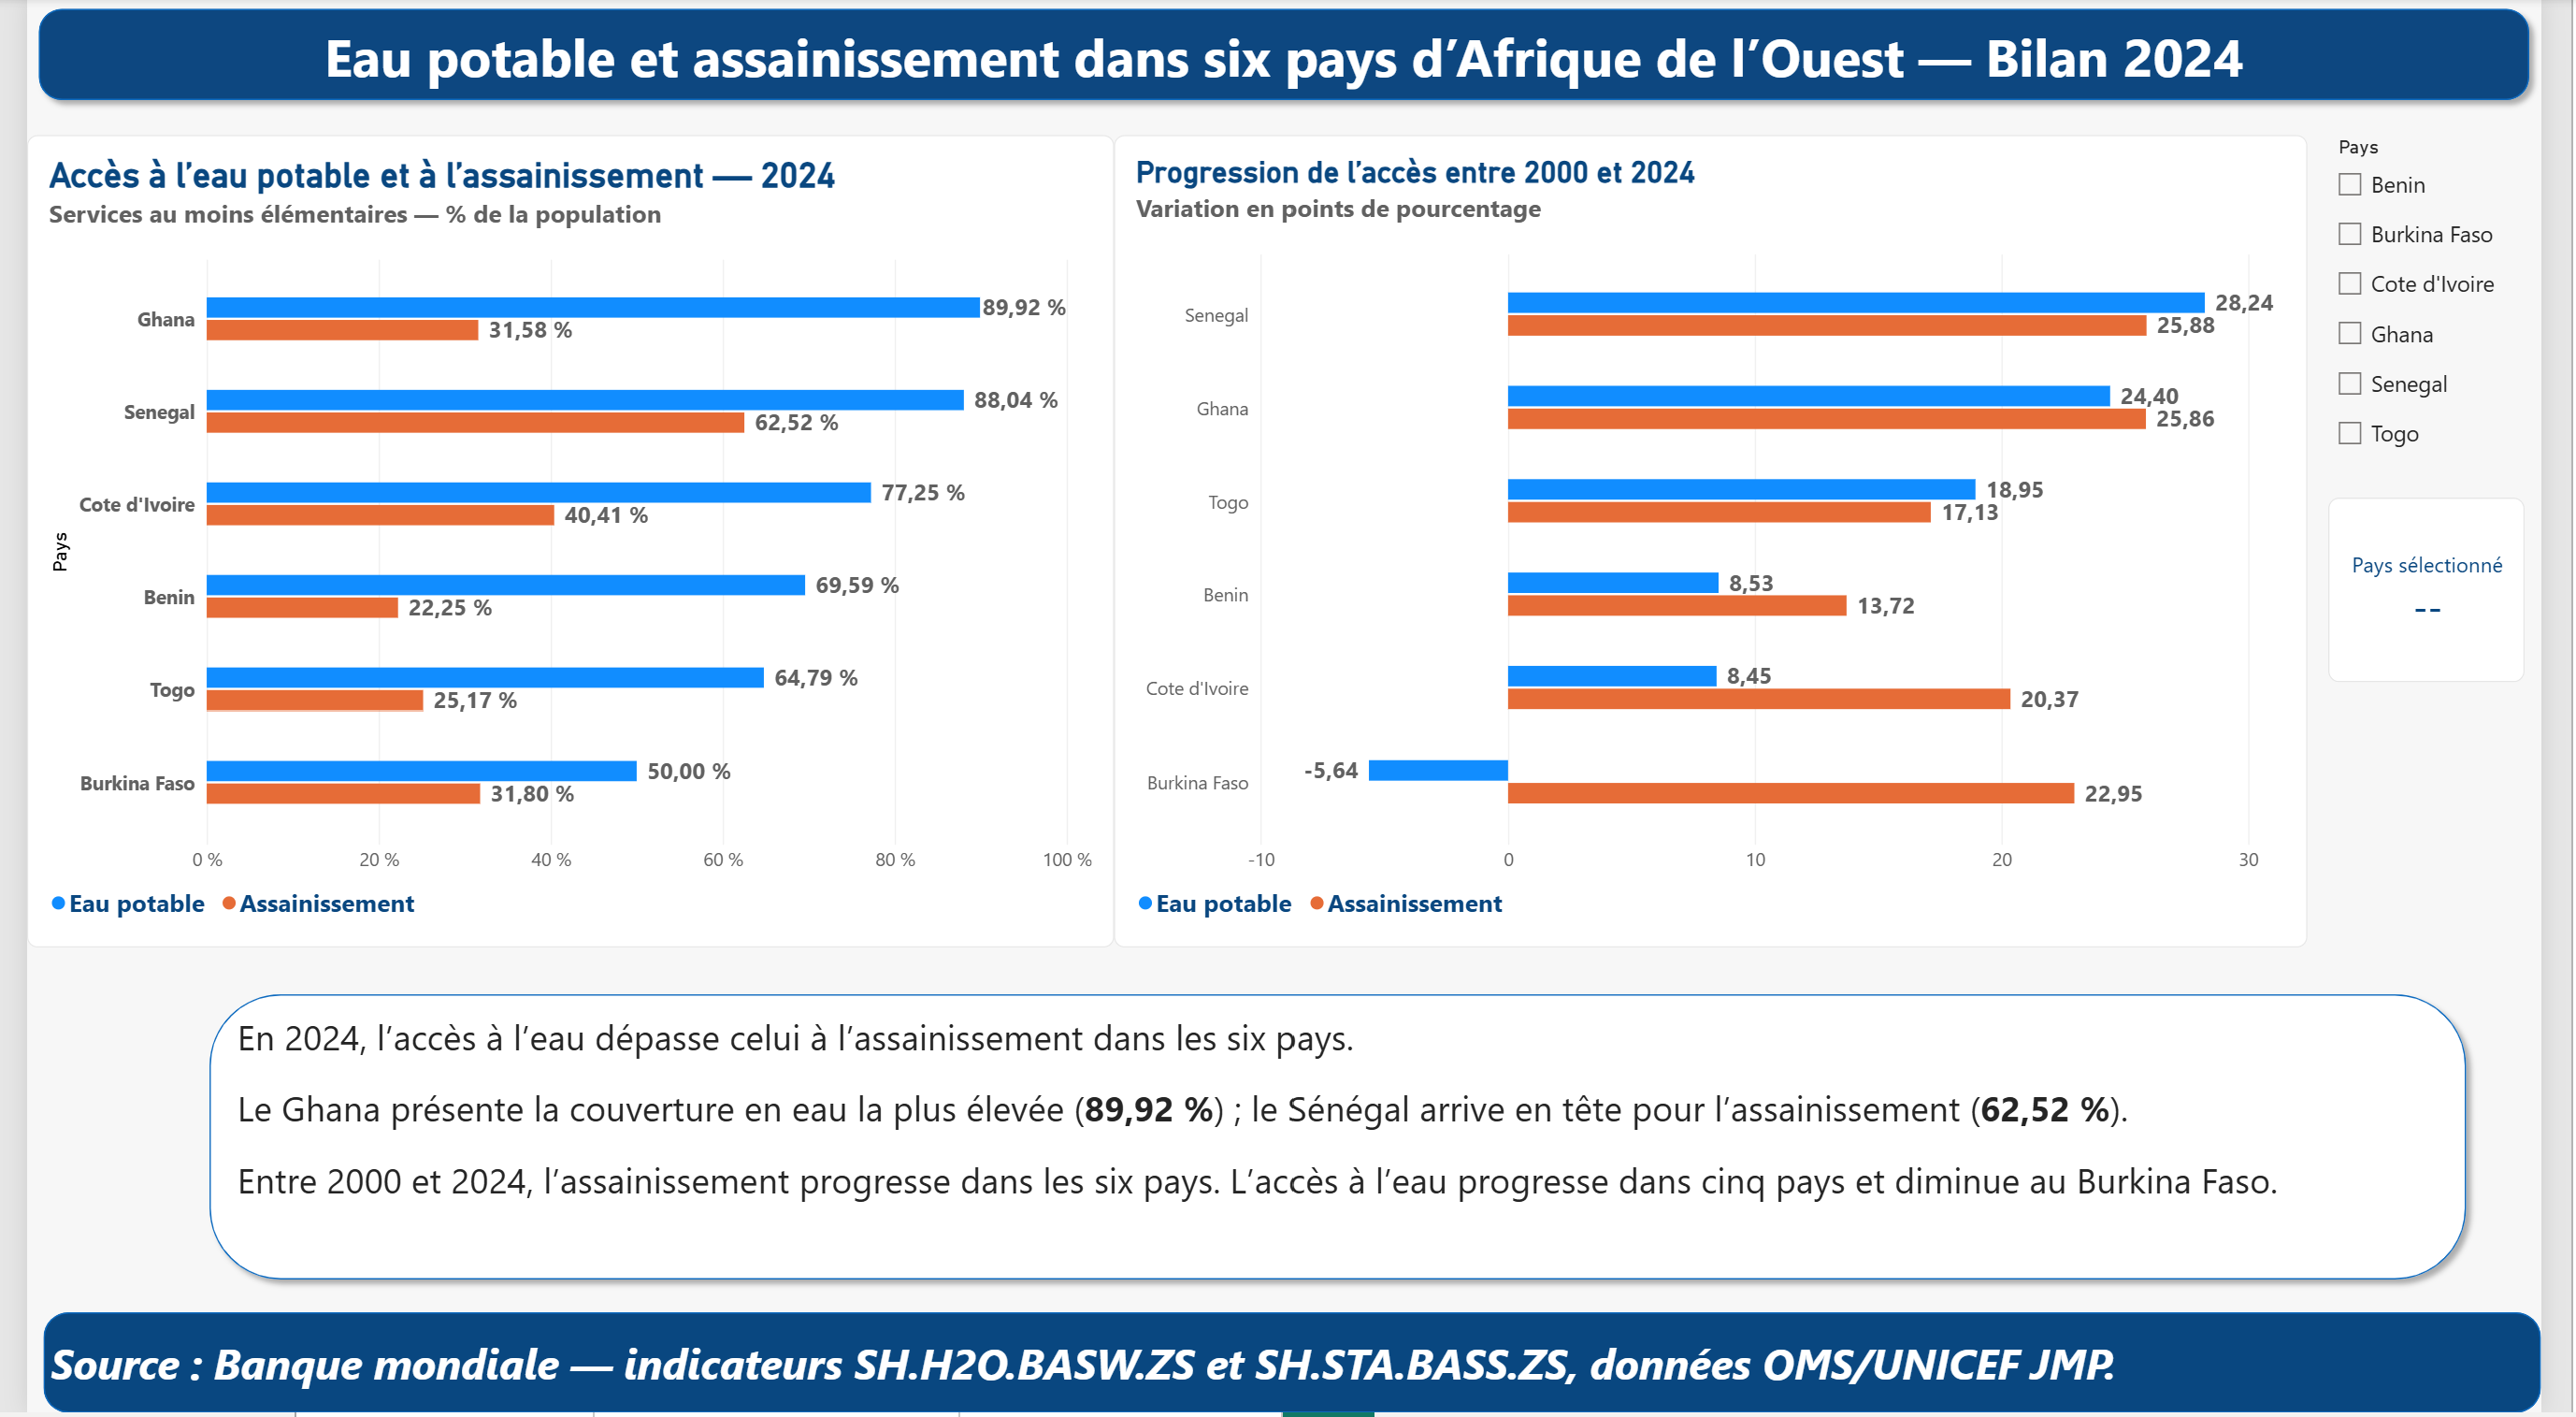

This screenshot's page, from the dashboard's own definition file:
{"tool":"powerbi","page":{"name":"Vue d'ensemble","canvas":[1920,1080],"ordinal":0},"visuals":[{"type":"clusteredBarChart","title":"Accès à l’eau potable et à l’assainissement — 2024","fields":{"Category":["Eau_Assainissemen.Pays"],"Y":["Eau_Assainissemen.Acces eau 2024","Eau_Assainissemen.Accès Assainissement 2024"]},"box":[0,105,830.4,619.6],"z":0},{"type":"shape","box":[130.4,751.8,1741.1,235.7],"z":0,"group":"g1"},{"type":"clusteredBarChart","title":"Progression de l’accès entre 2000 et 2024","fields":{"Category":["Eau_Assainissemen.Pays"],"Y":["Eau_Assainissemen.Variation point acces eau 2000-2024","Eau_Assainissemen.Variation point accès Assainissement 2000-2024"]},"box":[830.4,105,910.7,619.6],"z":1000},{"type":"textbox","box":[160.8,775,1685.7,182.1],"z":1000,"group":"g1"},{"type":"group","id":"g1","title":"Groupe 1","box":[130.4,751.8,1741.1,235.7],"z":2000},{"type":"shape","box":[12.5,1003.2,1907.2,76.8],"z":3000},{"type":"shape","box":[0,0,1919.7,87.5],"z":4000},{"type":"slicer","fields":{"Values":["Eau_Assainissemen.Pays"]},"box":[1757.2,105.4,150,276.8],"z":5000},{"type":"cardVisual","fields":{"Data":["Eau_Assainissemen.Pays sélectionné"]},"box":[1757.2,382.1,150,141.1],"z":6000}]}

Visuals, with their boxes in screenshot pixels (x1, y1, x2, y2), scaled from the page's 1920x1080 canvas onto the 2576x1417 screenshot:
"Accès à l’eau potable et à l’assainissement — 2024" clusteredBarChart: <box>0,137,1115,950</box>
shape: <box>175,987,2511,1295</box>
"Progression de l’accès entre 2000 et 2024" clusteredBarChart: <box>1115,137,2336,950</box>
textbox: <box>216,1017,2478,1256</box>
"Groupe 1" group: <box>175,987,2511,1295</box>
shape: <box>17,1316,2575,1416</box>
shape: <box>0,0,2575,115</box>
slicer - Eau_Assainissemen.Pays: <box>2357,138,2559,501</box>
cardVisual - Eau_Assainissemen.Pays sélectionné: <box>2357,501,2559,687</box>
